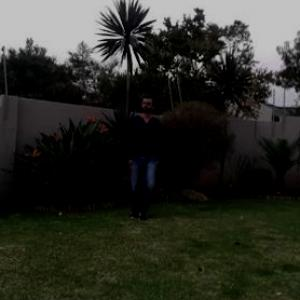follow: (124, 93, 162, 221)
